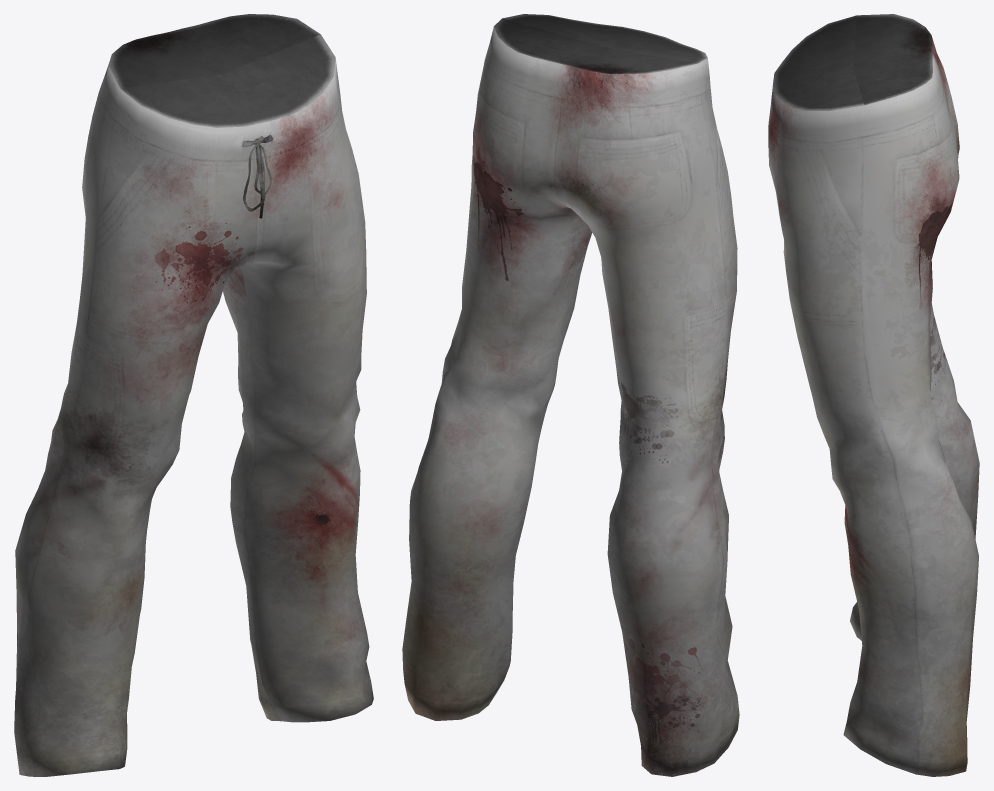
The model's file is SurvivorMale_Legs_Pants_Scrubs_LOD0.glb.
3 views of the same model, side by side, from view 1: azimuth 30°, elevation 25°; view 2: azimuth 150°, elevation 25°; view 3: azimuth 270°, elevation 25° (orthographic). The views are drawn at different scales.
Visible parts, largest first — view 1: Hoodie; view 2: Hoodie; view 3: Hoodie.
Boxes of the visible parts, x1=… form: Hoodie: x1=14, y1=14, x2=373, y2=776; Hoodie: x1=402, y1=14, x2=739, y2=776; Hoodie: x1=768, y1=14, x2=979, y2=776.
Bounding box in the file's own units: 0.5237 × 1.05 × 0.3064.
Materials: 1 (1 with a texture image).
